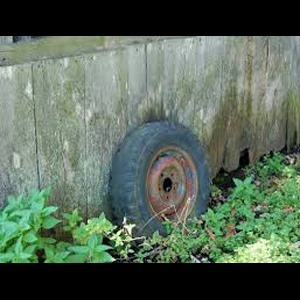tire: (104, 118, 211, 251)
